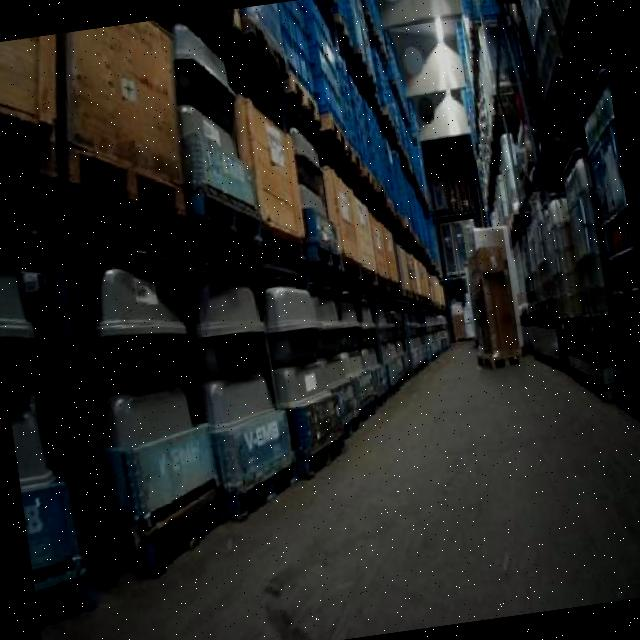pallet: (111, 465, 229, 583), (59, 136, 190, 229), (220, 446, 307, 531), (194, 176, 272, 252), (291, 422, 353, 489), (275, 66, 327, 131), (474, 347, 527, 374)
